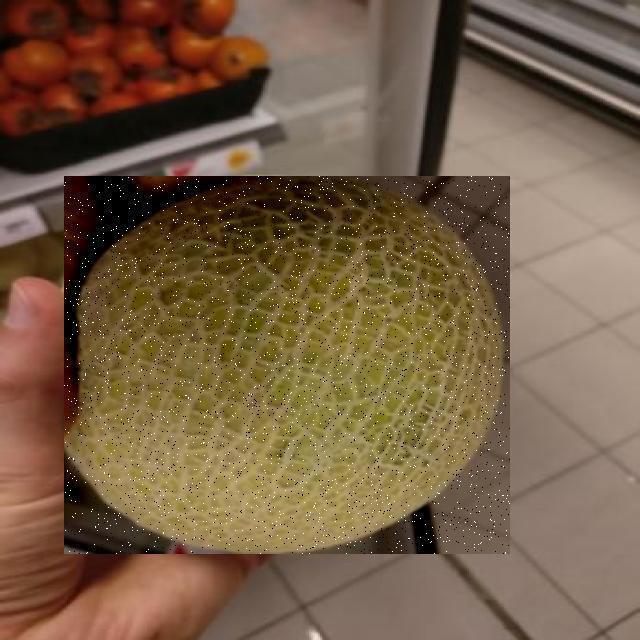Cantaloupe: (64, 177, 510, 555)
